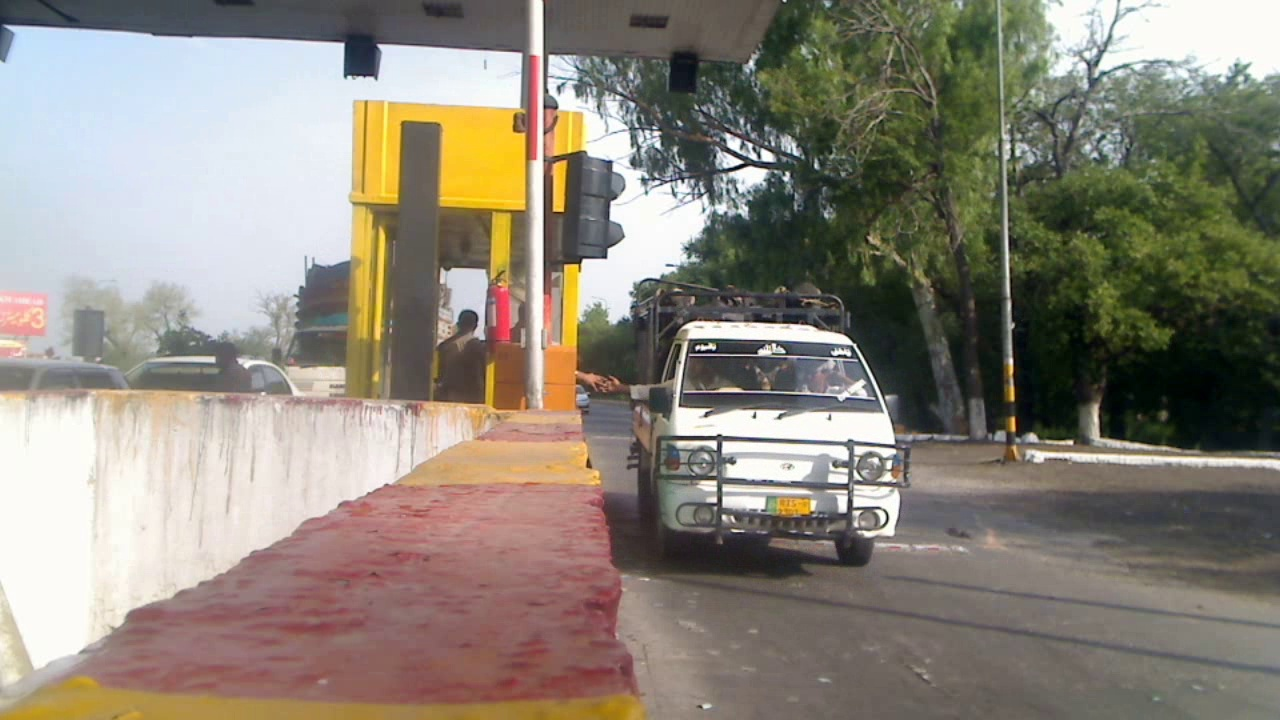Number Plate (Car): (766, 496, 810, 514)
